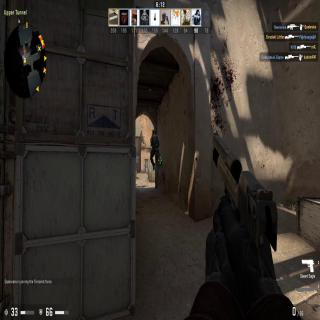CT-Body: (150, 129, 160, 168)
CT-Head: (150, 128, 157, 138)
